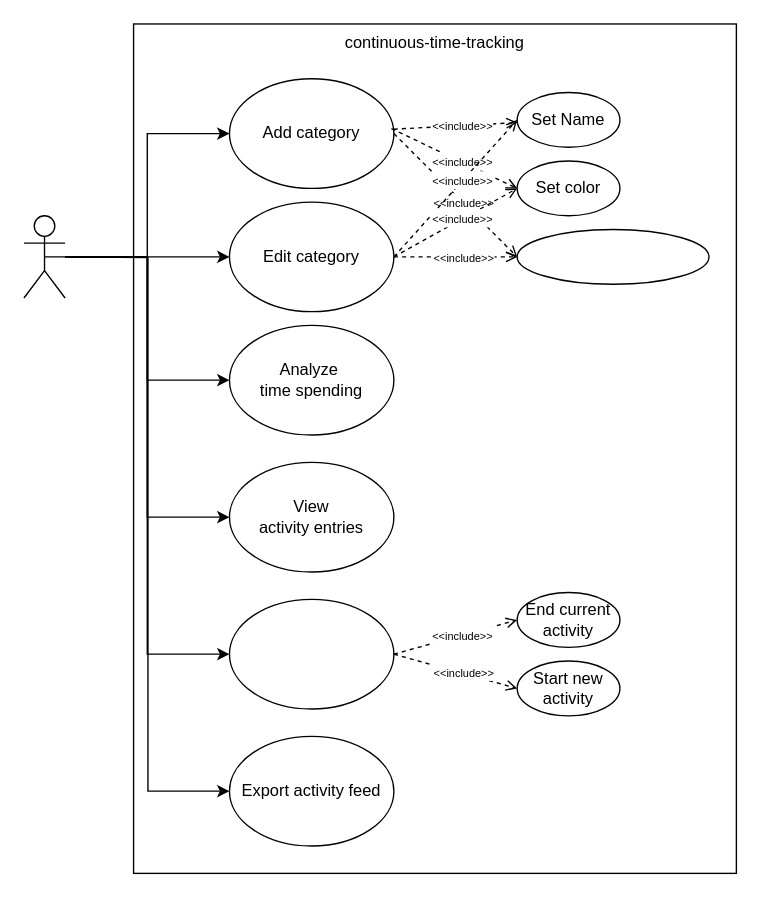
Some shapes in this 760 by 897 pixel diagram are drawn without their labels. The box of each missing label's shape, as (x1, y1, x2, y2) in pixels:
Actor: (23, 214, 65, 298)
Change current activity: (228, 598, 394, 709)
Set reminder interval: (516, 228, 709, 284)
